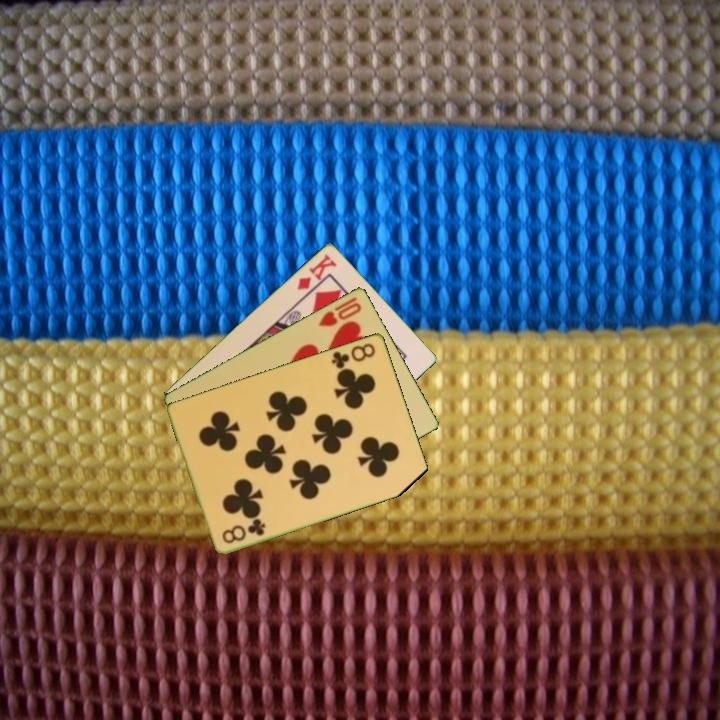10h: (314, 293, 365, 329)
8c: (328, 339, 378, 371), (219, 515, 268, 546)
Kd: (293, 250, 339, 293)
